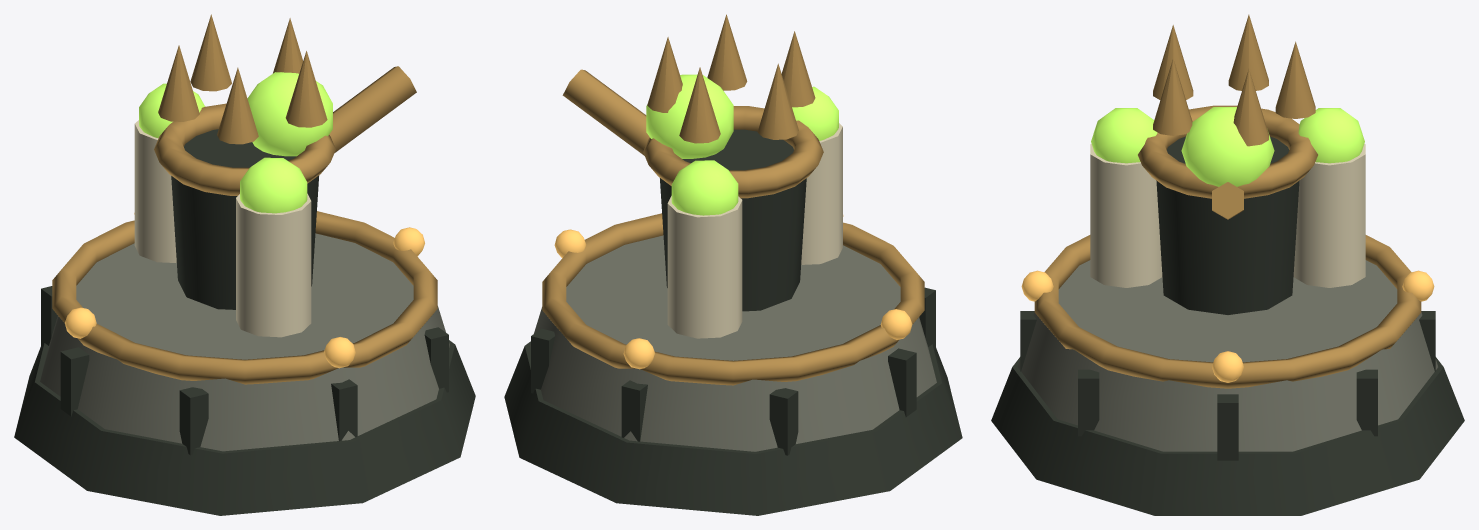
File: tower_poison_poisonGland_ultimate.glb
3 views of the same model, side by side, from view 1: azimuth 30°, elevation 25°; view 2: azimuth 150°, elevation 25°; view 3: azimuth 270°, elevation 25° (orthographic).
Visible parts, largest first — view 1: stone_1, foot_0, rim_2, flask_20, vessel_15, vessel_lip_17, flask_22, gland_19, needle_18, poison_reservoir_21, crown_24, crown_26 (+12 smaller); view 2: stone_1, foot_0, rim_2, vessel_15, flask_22, vessel_lip_17, flask_20, gland_19, needle_18, poison_reservoir_23, crown_24, crown_28 (+12 smaller); view 3: stone_1, foot_0, vessel_15, rim_2, flask_20, flask_22, vessel_lip_17, gland_19, poison_reservoir_23, poison_reservoir_21, crown_24, crown_26 (+12 smaller).
Part boxes in pixels (box(x1,y1,x2,y2)): stone_1: box(40, 233, 449, 451); foot_0: box(14, 340, 475, 515); rim_2: box(52, 211, 437, 384); flask_20: box(236, 193, 311, 337); vessel_15: box(171, 129, 319, 309); vessel_lip_17: box(154, 103, 335, 195); flask_22: box(134, 120, 176, 262); gland_19: box(247, 72, 332, 156); needle_18: box(329, 66, 416, 152); poison_reservoir_21: box(240, 157, 307, 213); crown_24: box(190, 14, 231, 91); crown_26: box(285, 51, 327, 127); stone_1: box(530, 235, 936, 451); foot_0: box(504, 341, 962, 515); rim_2: box(542, 213, 924, 385); vessel_15: box(660, 129, 806, 311); flask_22: box(667, 196, 742, 338); vessel_lip_17: box(643, 106, 823, 198); flask_20: box(801, 123, 842, 264); gland_19: box(646, 74, 733, 158); needle_18: box(562, 69, 649, 155); poison_reservoir_23: box(671, 160, 738, 215); crown_24: box(679, 67, 720, 143); crown_28: box(757, 63, 798, 139); stone_1: box(1018, 260, 1437, 451); foot_0: box(991, 357, 1464, 515); vessel_15: box(1156, 136, 1299, 314); rim_2: box(1034, 235, 1421, 388); flask_20: box(1090, 144, 1162, 287); flask_22: box(1293, 144, 1365, 287); vessel_lip_17: box(1138, 105, 1317, 198); gland_19: box(1181, 107, 1274, 186); poison_reservoir_23: box(1298, 108, 1364, 163); poison_reservoir_21: box(1091, 108, 1157, 163); crown_24: box(1275, 41, 1315, 118); crown_26: box(1153, 58, 1192, 135).
Bounding box in the file's own units: 0.5326 × 0.495 × 0.56.
